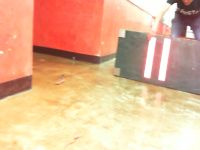switch: (157, 38, 171, 81), (143, 37, 157, 78)
